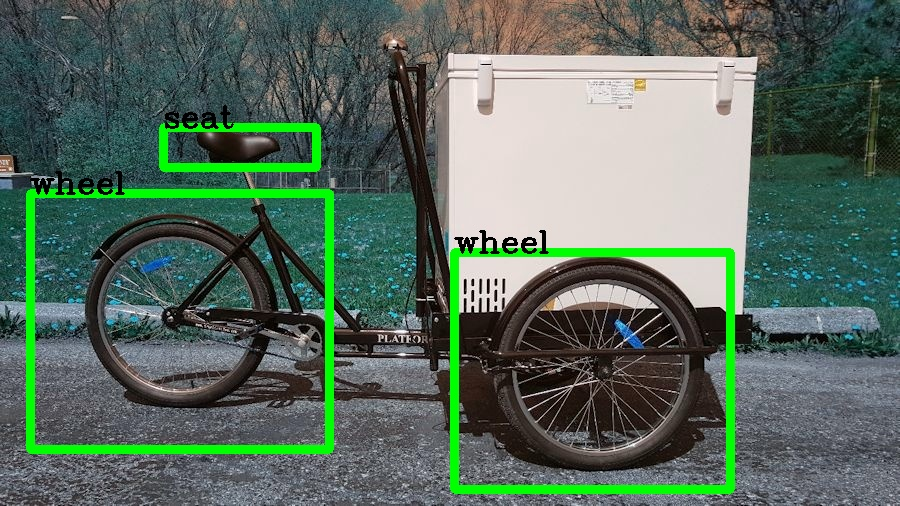seat: (163, 127, 316, 167)
wheel: (30, 193, 329, 449), (454, 252, 730, 489)
